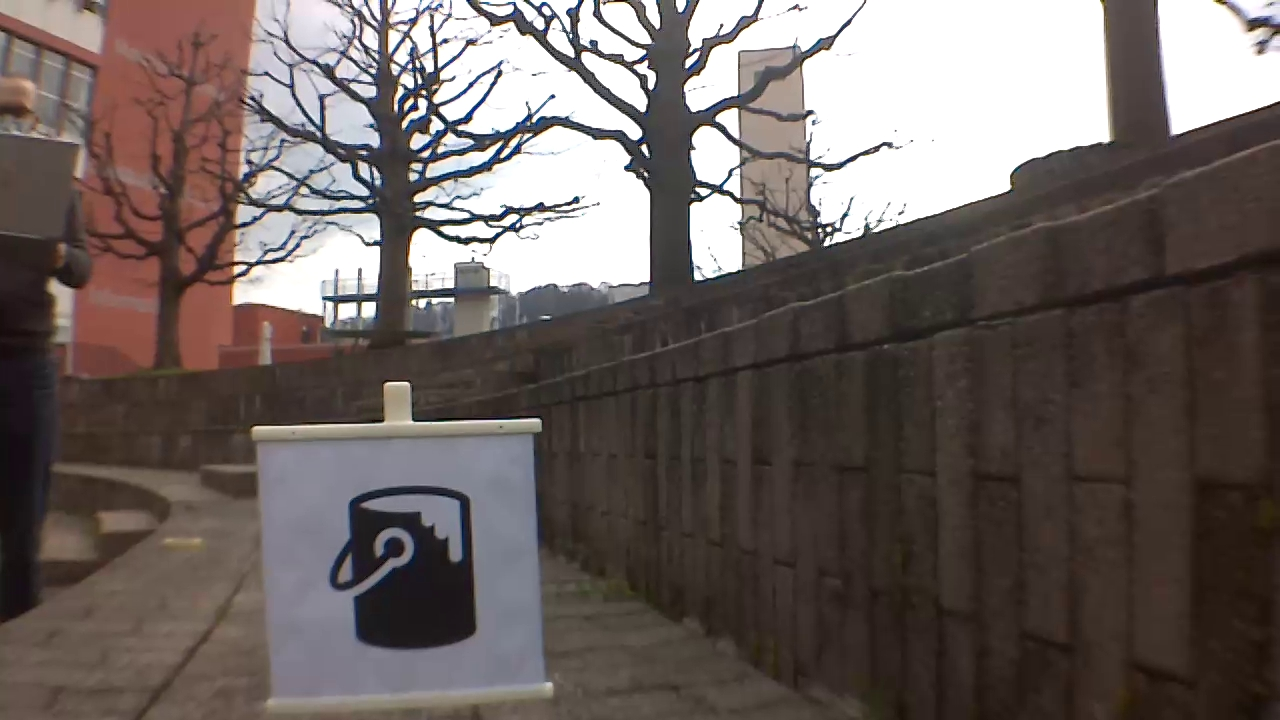bucket: (332, 477, 483, 651)
